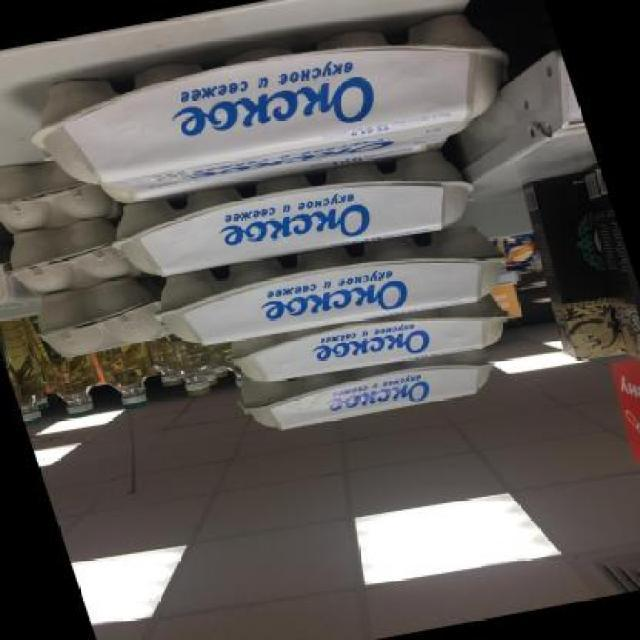egg: (12, 0, 521, 212), (100, 139, 492, 289), (140, 218, 512, 357), (226, 292, 516, 392), (234, 342, 508, 438), (24, 272, 178, 374), (0, 214, 140, 300), (20, 306, 114, 430), (0, 151, 115, 239), (144, 328, 230, 410), (0, 315, 55, 432), (93, 341, 169, 416)
